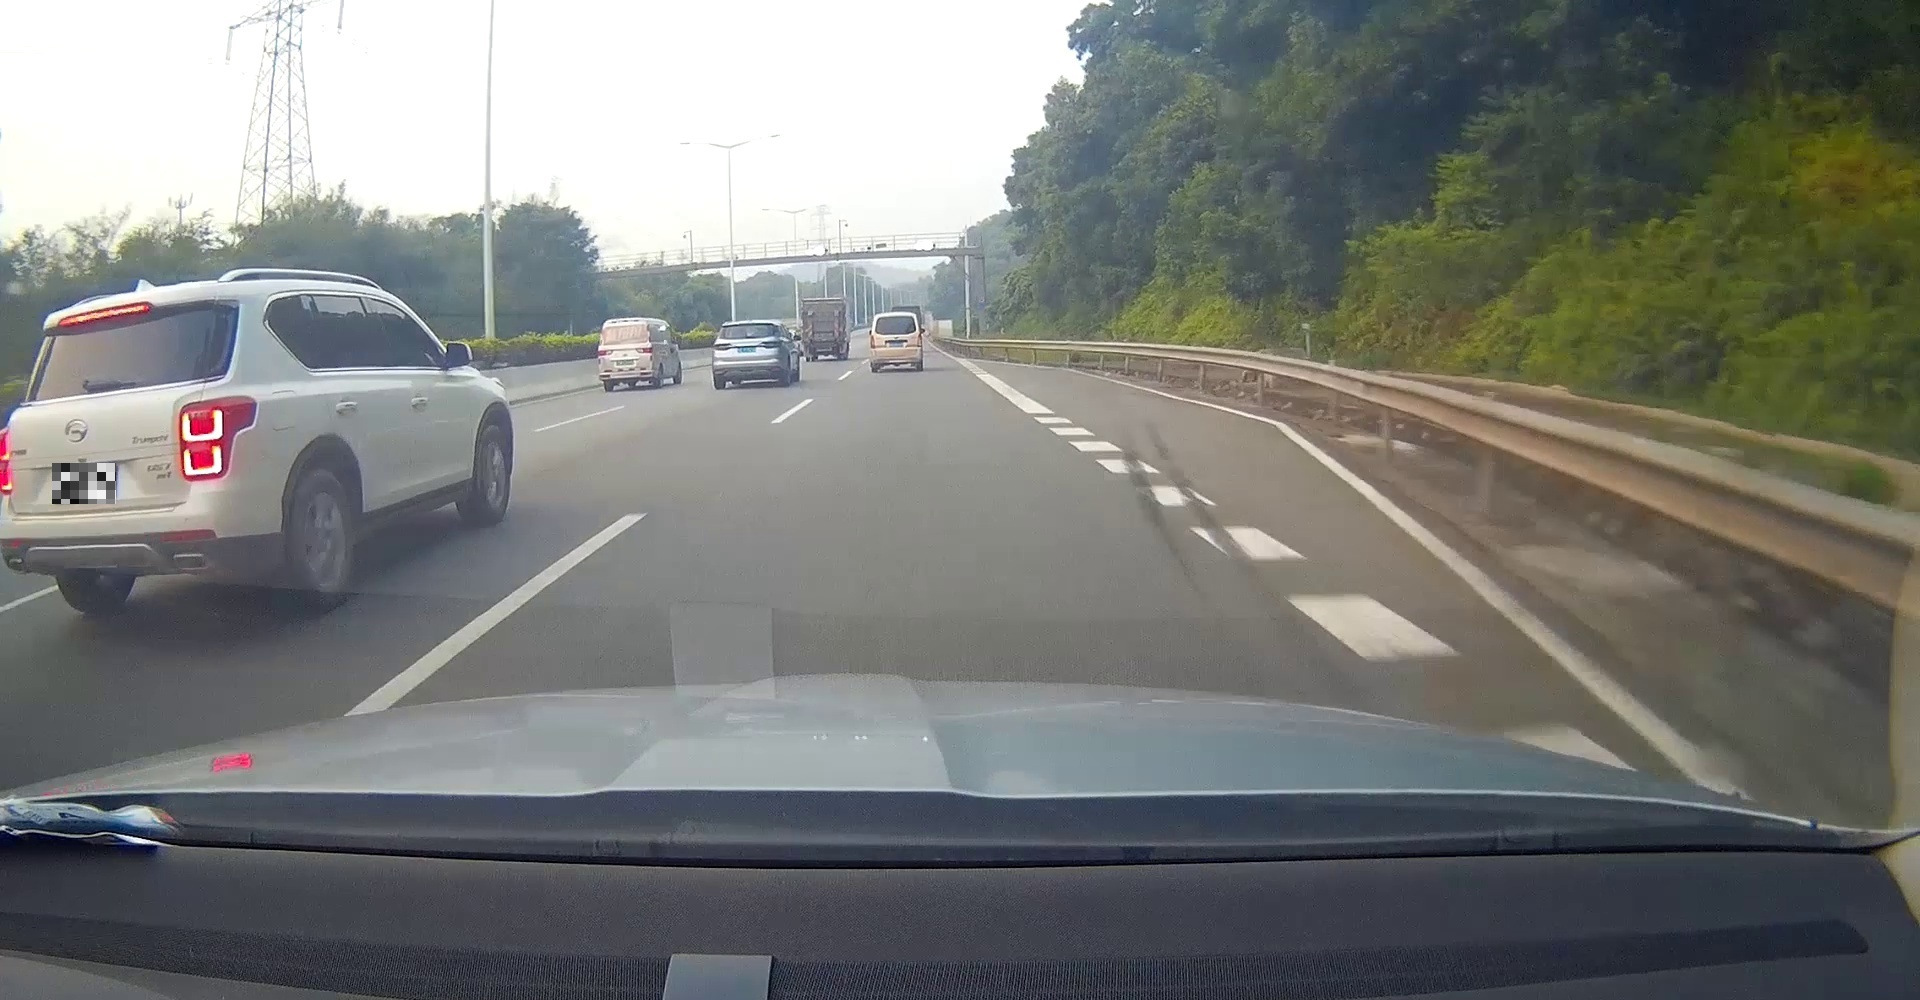L_light: (0, 426, 13, 495), (712, 343, 731, 352), (597, 350, 615, 357), (870, 335, 876, 349)
R_light: (177, 393, 259, 484), (759, 340, 781, 349), (635, 348, 653, 354), (917, 332, 922, 346)
T_light: (57, 301, 150, 326), (740, 324, 756, 326), (621, 320, 629, 324), (891, 317, 902, 319)
day-brake: (0, 280, 265, 614)
day-no: (712, 320, 783, 390), (597, 319, 655, 391), (869, 312, 923, 372)
plate_1: (52, 463, 116, 504)
